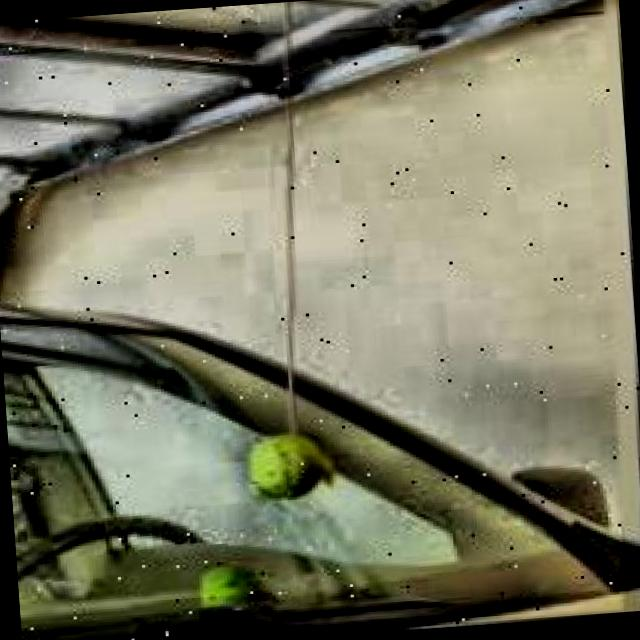tennis-ball: (252, 434, 338, 518), (203, 564, 285, 628)
